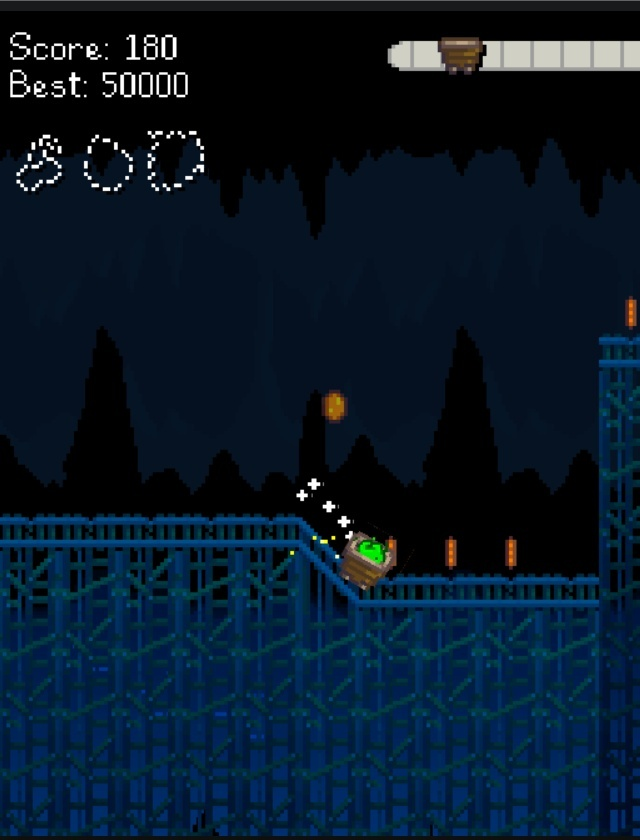coins: (322, 391, 347, 422), (625, 298, 636, 328), (506, 537, 516, 568), (446, 540, 456, 568)
minecart: (340, 532, 395, 589)
tracks: (0, 507, 607, 618), (594, 330, 640, 370)
